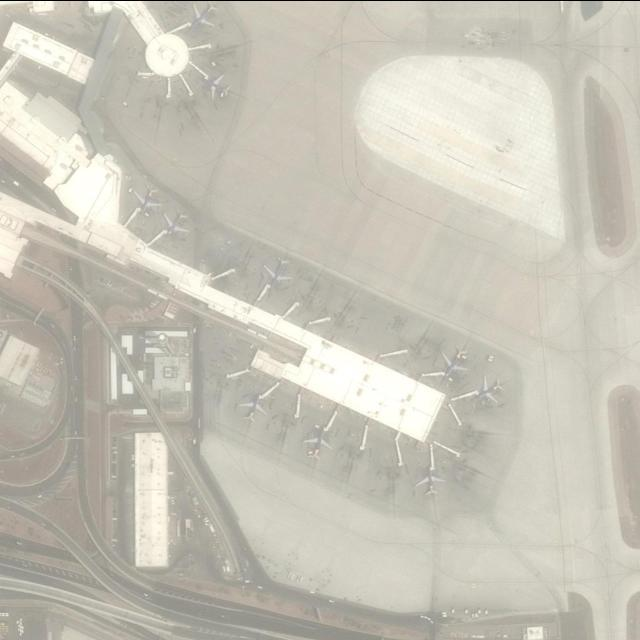Aircraft: (471, 372, 507, 406), (440, 344, 472, 380), (415, 463, 445, 497), (241, 388, 268, 424), (263, 256, 293, 288), (304, 423, 330, 459), (133, 182, 161, 214), (202, 73, 234, 101), (189, 0, 217, 30), (161, 206, 187, 236), (549, 0, 577, 12)
